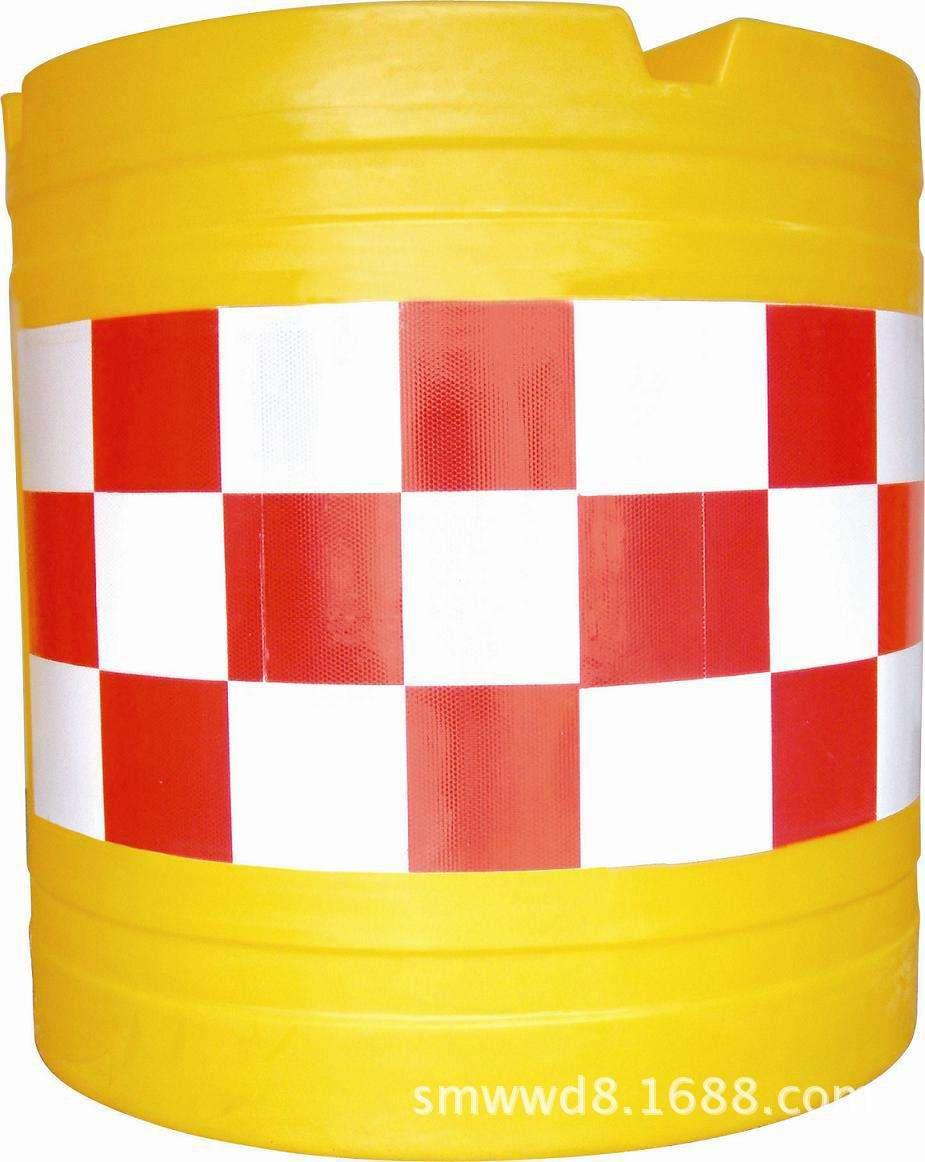sign: (4, 1, 922, 1139)
